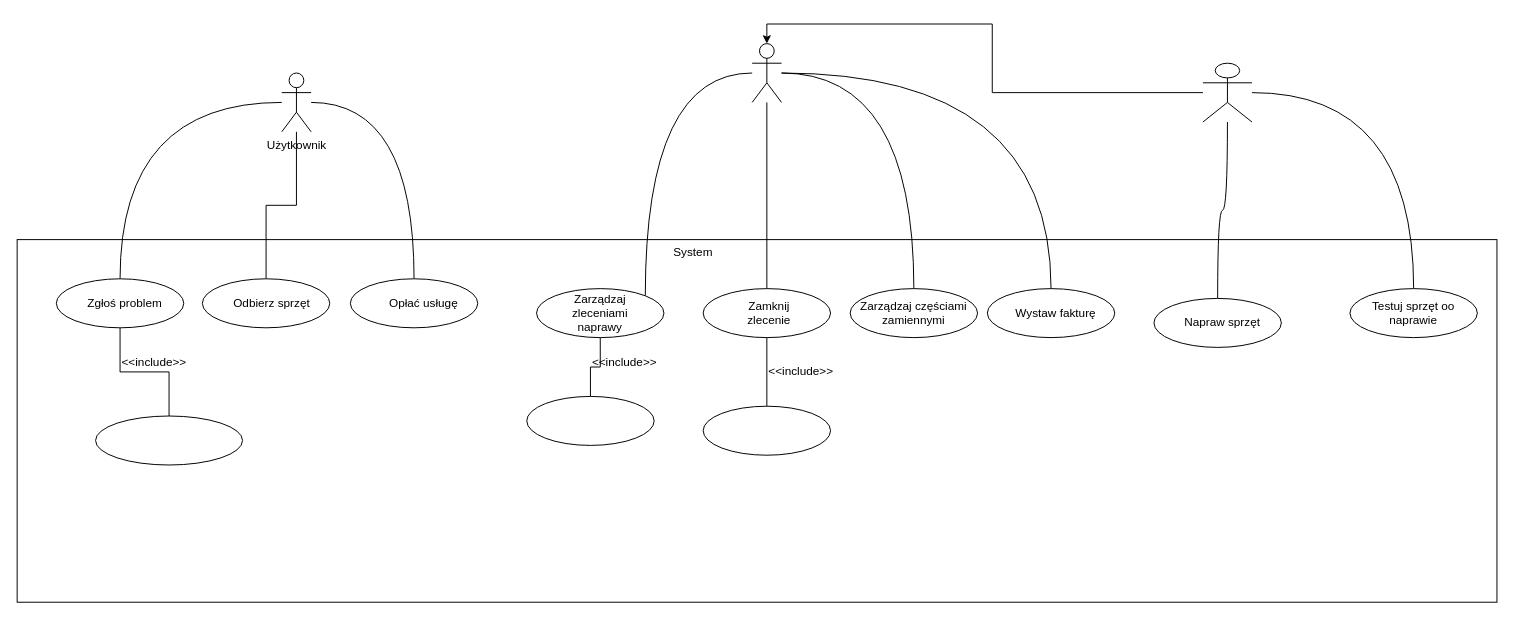
The diagram is 1514 pixels wide and 619 high, and some of its shapes have lost their labels. Each missing label, with the centre of its shape:
"administrator" goes at [766,72].
"Archiwizuj dane" goes at [766,430].
"Oblicz koszt napraw" goes at [590,420].
"Technik" goes at [1227,92].
"Wysyłaj powiadomienia" goes at [169,440].
